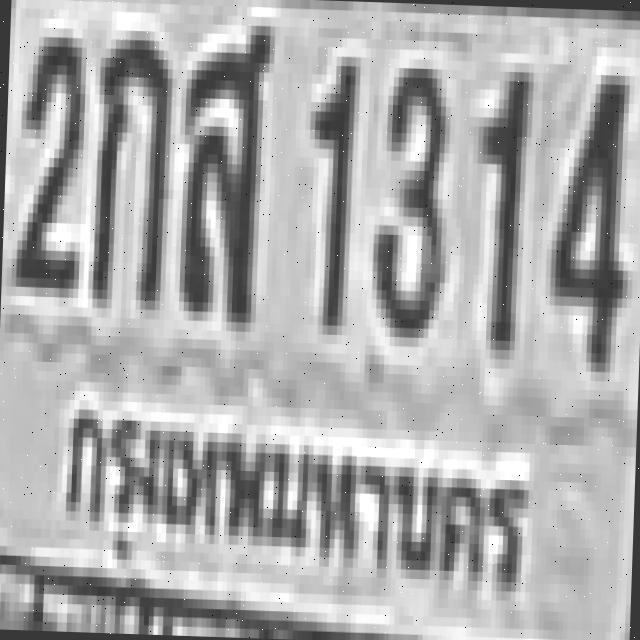1: (468, 61, 526, 341), (303, 46, 356, 326)
10GorGai: (88, 29, 168, 300)
2: (11, 27, 82, 288)
3: (366, 58, 447, 328)
4: (543, 64, 625, 362)
49SorSuea: (174, 14, 270, 314)
Bangkok: (51, 374, 538, 612)
